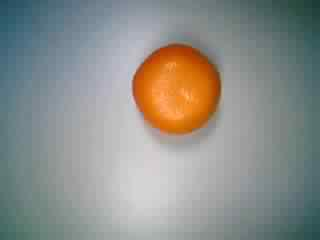orange: (128, 41, 223, 135)
